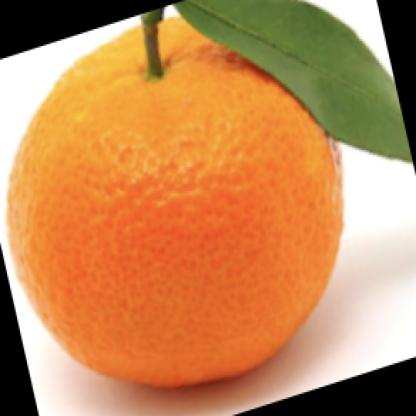fresh: (12, 23, 344, 376)
